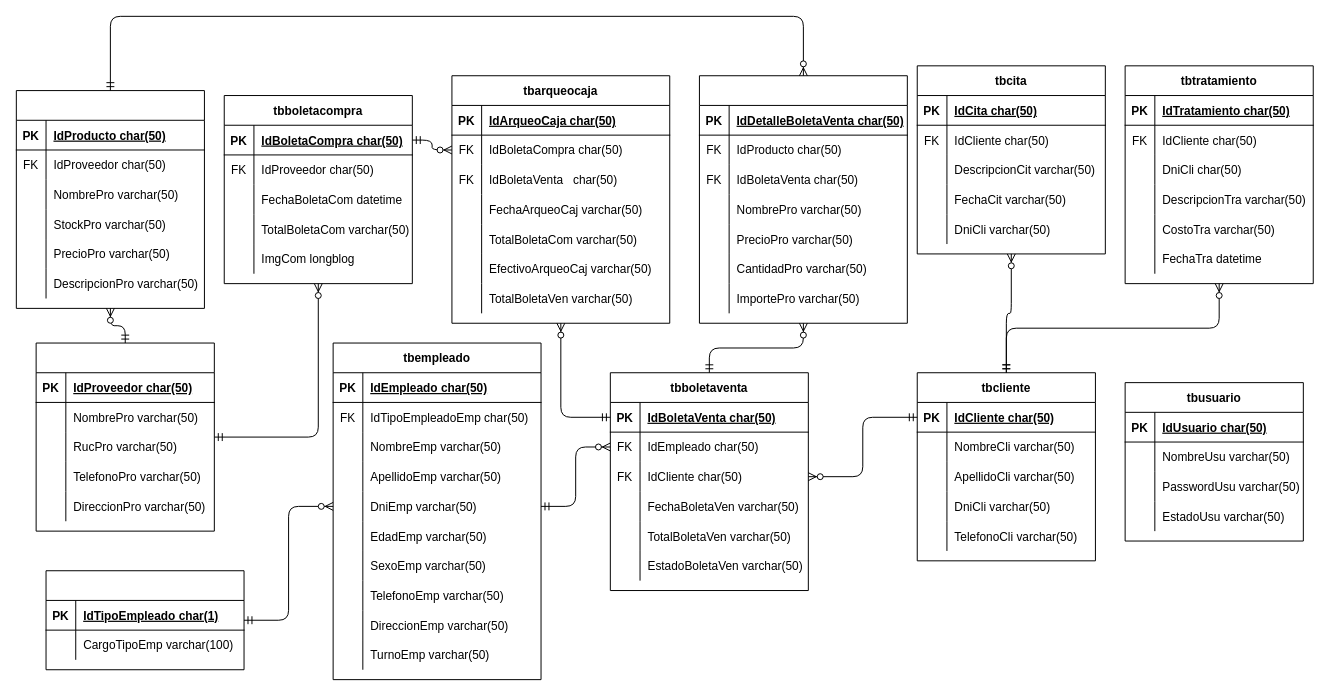
The diagram is 1330 pixels wide and 696 high, and some of its shapes have lost their labels. The shapes that lost their labels are listed below. From the top down, each one's box as (x1, y1, x2, y2) in pixels, then its label:
(15, 90, 204, 308): tbproducto
(698, 75, 907, 323): tbdetalleboletaventa
(35, 342, 214, 531): tbproveedor
(45, 570, 244, 670): tbtipoempleado
